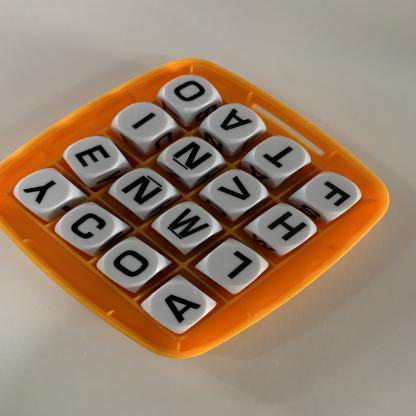a: (152, 283, 209, 328), (209, 105, 259, 141)
c: (61, 207, 117, 249)
e: (68, 138, 121, 175)
f: (305, 174, 362, 215)
h: (259, 207, 312, 250)
i: (119, 104, 169, 140)
l: (207, 244, 262, 287)
n: (117, 170, 169, 210), (166, 138, 219, 177)
o: (106, 243, 160, 286), (165, 76, 216, 111)
t: (253, 138, 307, 175)
v: (209, 171, 264, 211)
w: (160, 205, 216, 248)
y: (17, 169, 73, 212)
